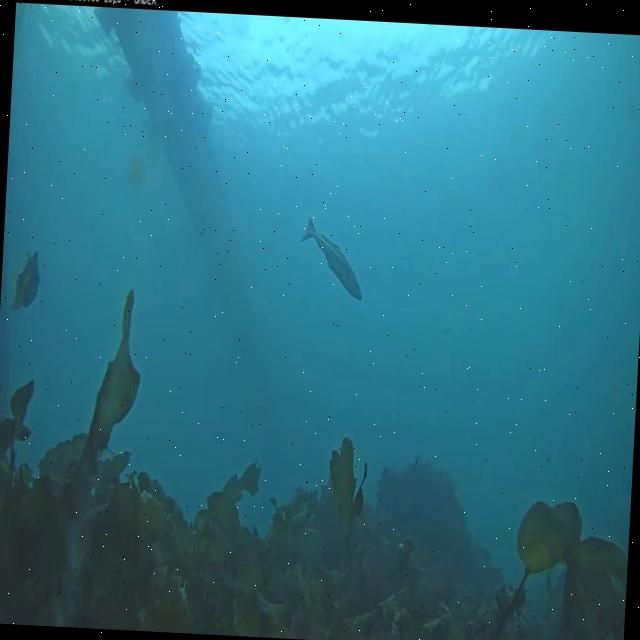fish: (300, 223, 370, 304), (14, 248, 43, 314)
